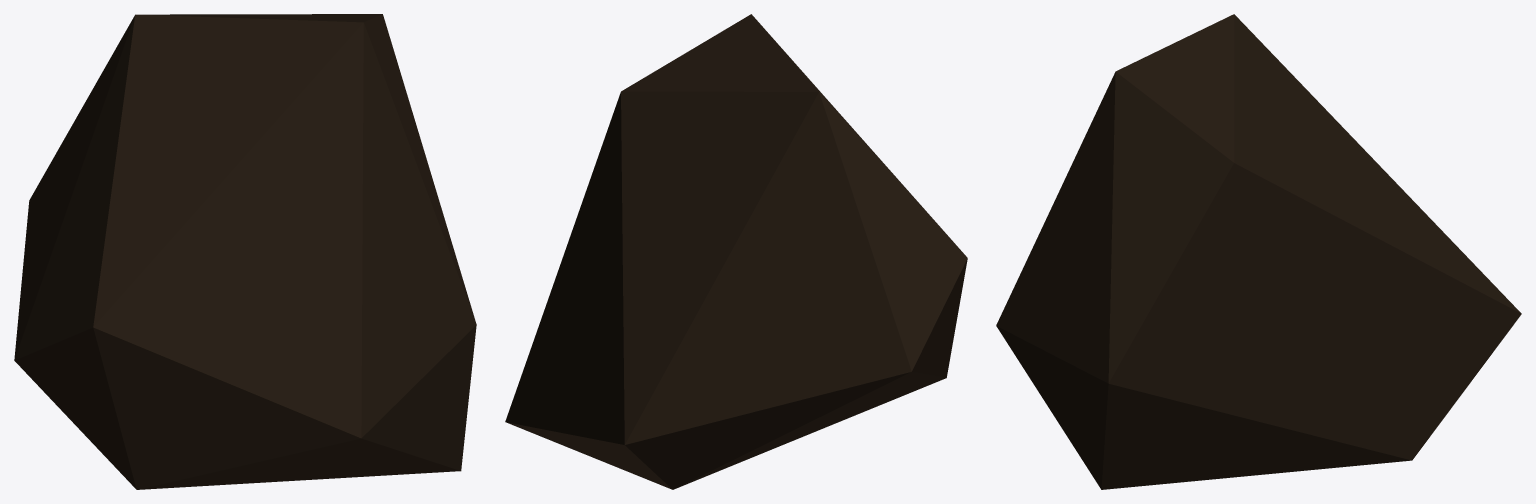
Rendered from Rock 2.FBX.
The picture shows the model from 3 angles, left to right: view 1: azimuth 30°, elevation 25°; view 2: azimuth 150°, elevation 25°; view 3: azimuth 270°, elevation 25°; orthographic projection. The views are drawn at different scales.
Visible parts, largest first — view 1: Tree round12; view 2: Tree round12; view 3: Tree round12.
Part boxes in pixels (left/top/right/bottom): Tree round12: left=14, top=14, right=476, bottom=489; Tree round12: left=505, top=14, right=967, bottom=489; Tree round12: left=996, top=14, right=1521, bottom=489.
Size of the model in its own units: 37.96 by 41.8 by 52.04.
